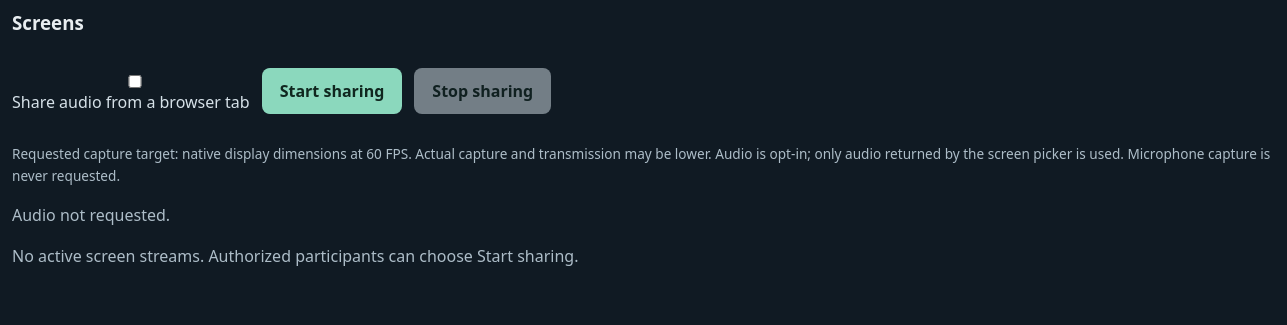
Test: audio option still requires picker consent and a denial publishes nothing
The image size is (1287, 325).
Click the checkbox labelled "Share audio from a browser tab". click: (135, 82)
box: [16,75,254,88]
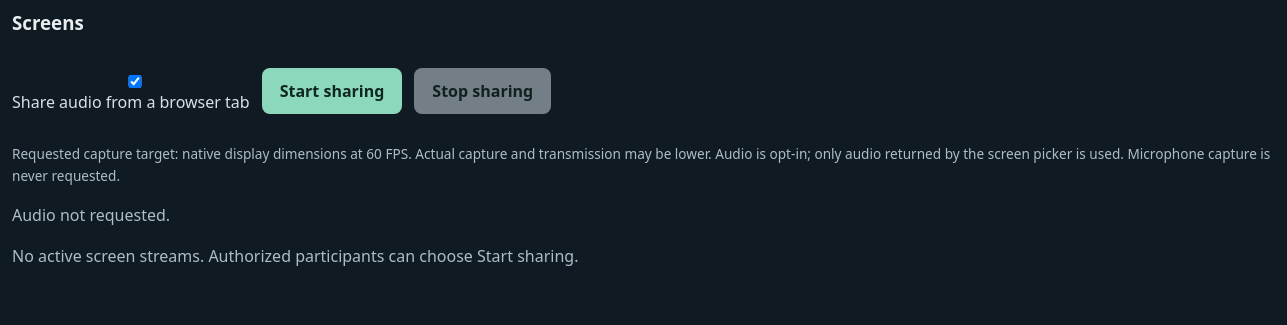
Click the button "Start sharing". click: (332, 91)
box: [262,68,402,114]
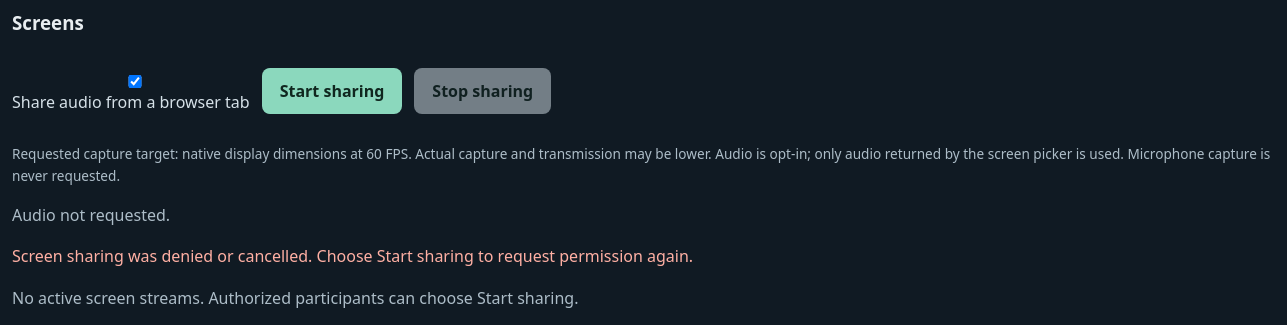
expect the 2nd message shows "denied or cancelled": met, box [12,245,693,267]
